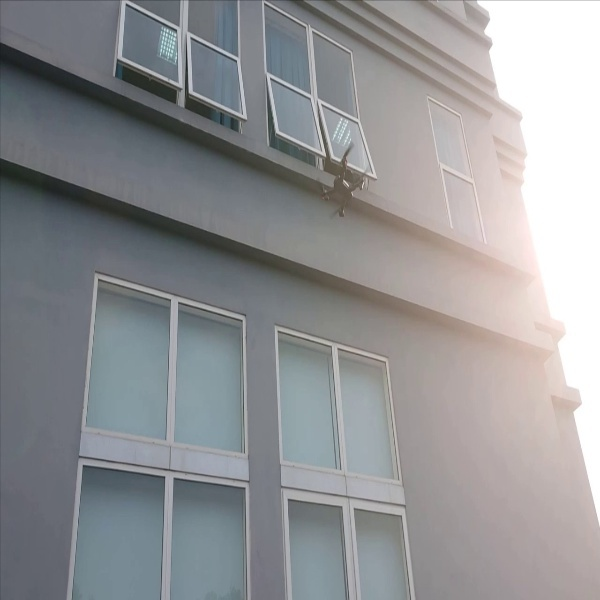drone: (307, 133, 375, 219)
